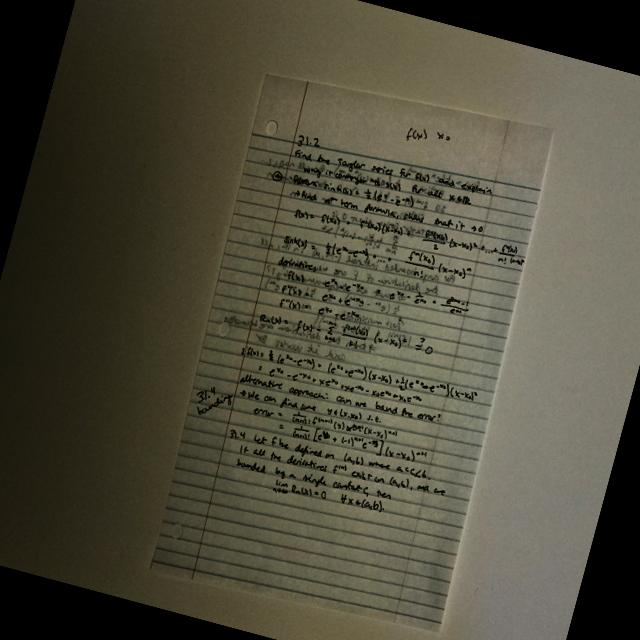Paper: (123, 20, 603, 640)
